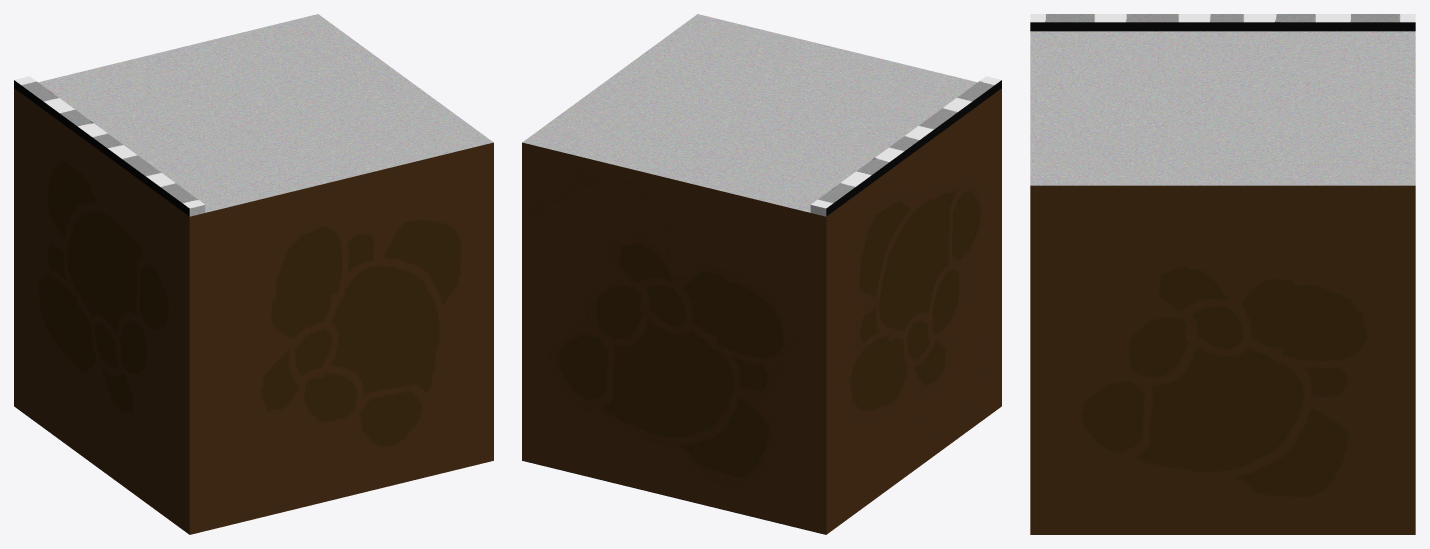
File: LevelBlock_1.fbx
The picture shows the model from 3 angles, left to right: view 1: azimuth 30°, elevation 25°; view 2: azimuth 150°, elevation 25°; view 3: azimuth 270°, elevation 25°; orthographic projection. The views are drawn at different scales.
Parts seen in each view (by area): view 1: Box007; view 2: Box007; view 3: Box007.
Boxes of the visible parts, left/top/right/bottom form: Box007: left=14, top=14, right=493, bottom=534; Box007: left=522, top=14, right=1001, bottom=534; Box007: left=1030, top=14, right=1415, bottom=534.
Size of the model in its own units: 39 by 39.01 by 40.
1 material, 1 textured.
